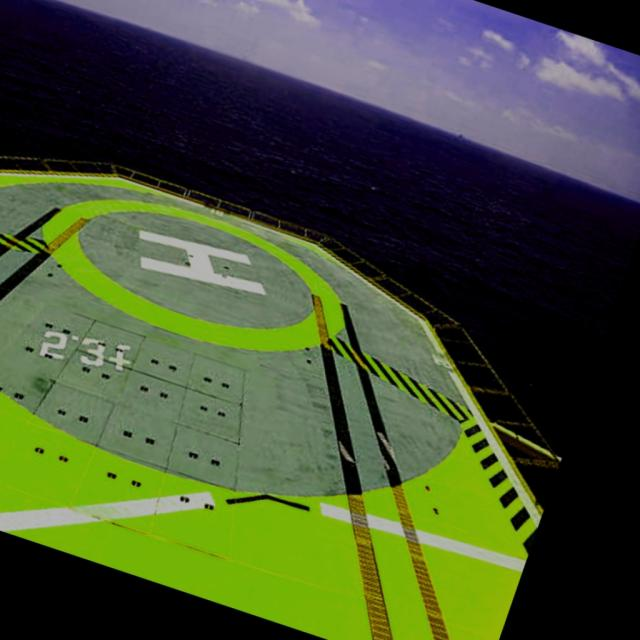helipad: (34, 190, 352, 354)
